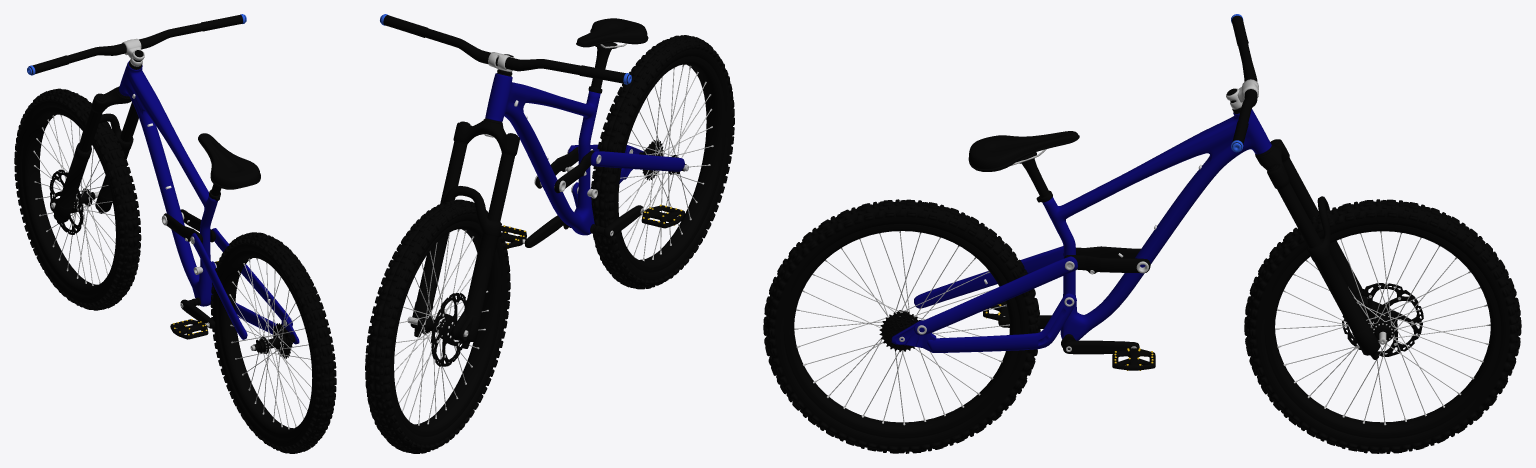
The model's file is Bicyclette.glb.
3 renders of one model, left to right at view 1: azimuth 30°, elevation 25°; view 2: azimuth 150°, elevation 25°; view 3: azimuth 270°, elevation 25°, orthographic. The views are drawn at different scales.
Parts seen in each view (by area): view 1: Pneu, Pneu.001, Frame.M, Jante devant, Jante, Fil pneu, ForkL, ForkUBars.004, Seat.002, Fil pneu devant, Frame.Bu, ForkUBars.001 (+7 smaller); view 2: Pneu.001, Pneu, Frame.M, Jante, Jante devant, ForkL, ForkUBars.004, Fil pneu, Fil pneu devant, ForkUBars.001, Frame.Bu, Seat.002 (+10 smaller); view 3: Pneu.001, Pneu, Frame.M, Jante devant, Jante, Frame.Bu, Fil pneu devant, Fil pneu, ForkL, Frame.Bl.002, Seat.002, ForkUBars.001 (+6 smaller).
Boxes of the visible parts, x1,y1,x2,y2 form: Pneu: (210,232,336,453); Pneu.001: (14,88,141,310); Frame.M: (119,61,217,306); Jante devant: (22,107,118,295); Jante: (218,250,314,439); Fil pneu: (229,258,311,429); ForkL: (53,113,133,223); ForkUBars.004: (28,14,245,74); Seat.002: (198,133,260,189); Fil pneu devant: (33,114,115,285); Frame.Bu: (191,228,292,339); ForkUBars.001: (79,102,138,152); Pneu.001: (365,199,510,453); Pneu: (591,35,734,289); Frame.M: (485,73,600,235); Jante: (616,56,726,272); Jante devant: (391,220,501,436); ForkL: (410,186,501,348); ForkUBars.004: (380,15,629,83); Fil pneu: (618,64,713,261); Fil pneu devant: (394,229,488,425); ForkUBars.001: (440,141,514,222); Frame.Bu: (568,144,684,171); Seat.002: (576,18,648,47); Pneu.001: (1244,199,1521,453); Pneu: (763,199,1040,453); Frame.M: (1042,109,1271,340); Jante devant: (1264,224,1501,438); Jante: (783,223,1020,438); Frame.Bu: (914,246,1077,335); Fil pneu devant: (1275,231,1490,425); Fil pneu: (794,231,1009,425); ForkL: (1307,196,1380,359); Frame.Bl.002: (927,293,1076,352); Seat.002: (968,131,1079,171); ForkUBars.001: (1277,158,1321,248).
Size of the model in its own units: 0.7633 by 1.03 by 1.88.
